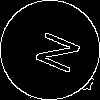N: (25, 25, 82, 77)
